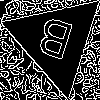B: (31, 15, 76, 70)
